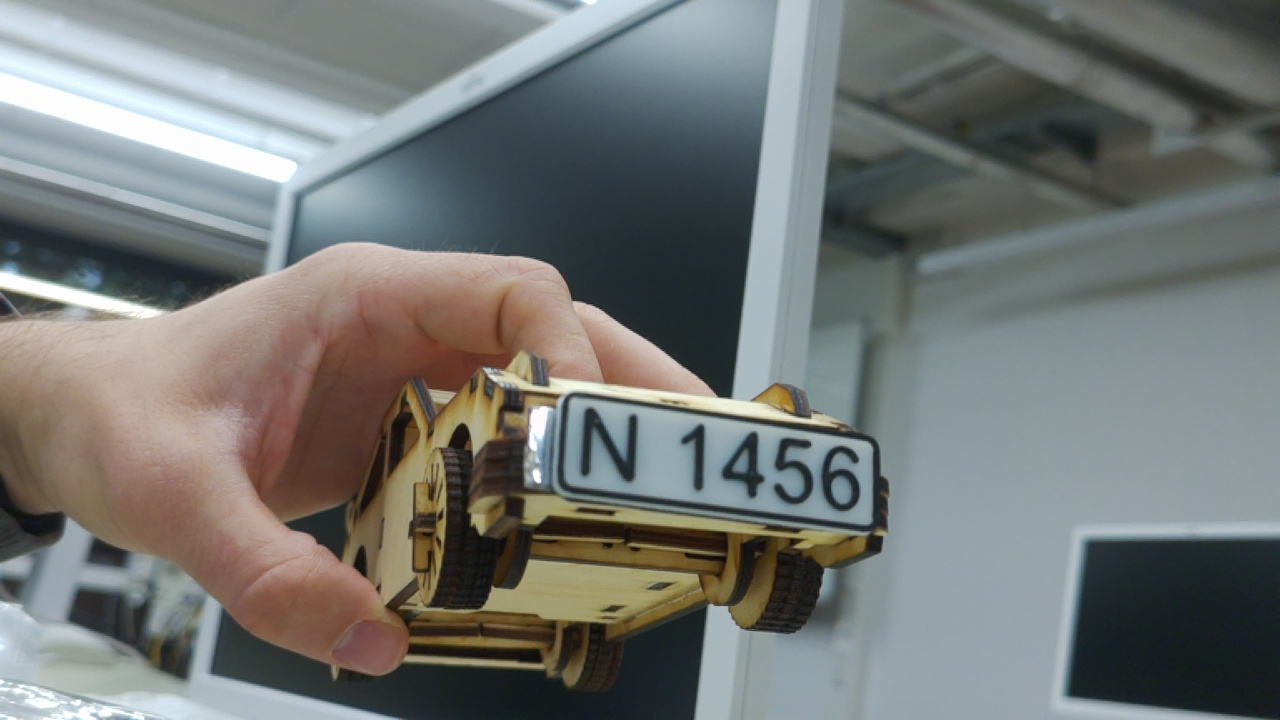license_plate: (529, 374, 880, 549)
